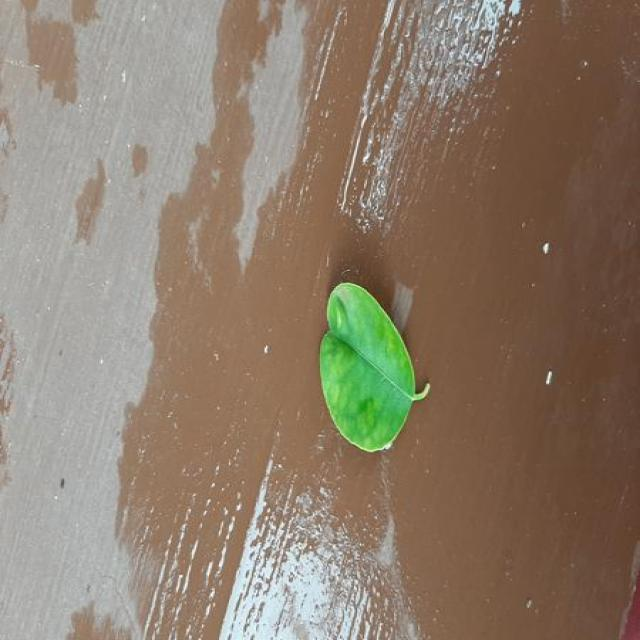lemon: (320, 282, 430, 452)
